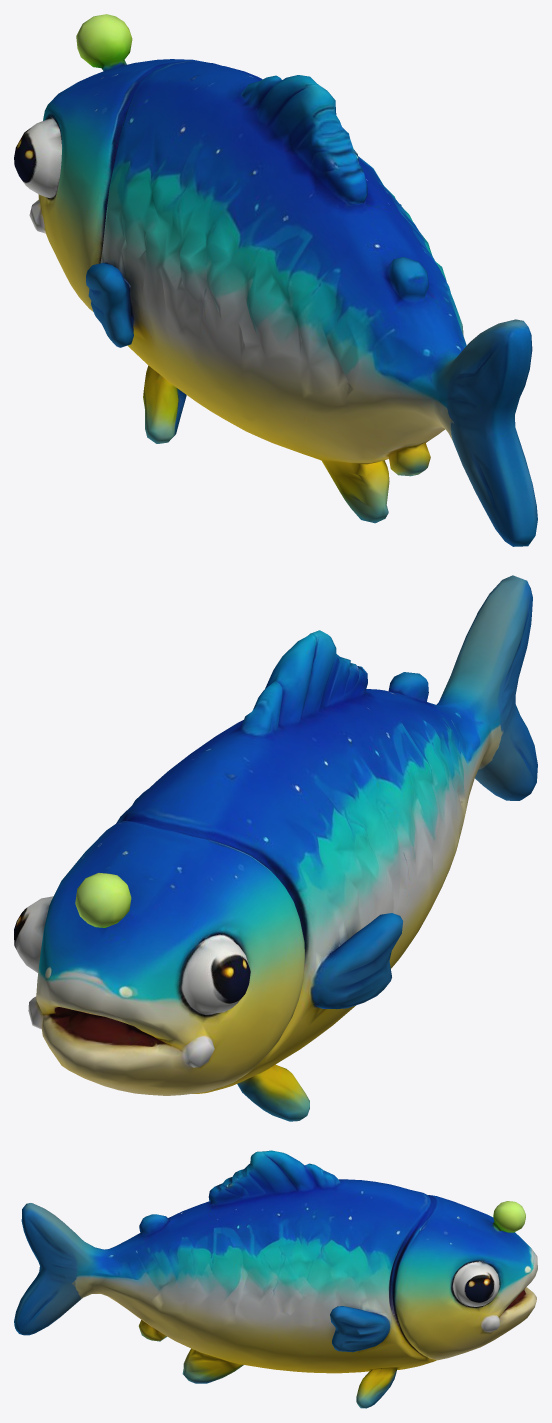
File: jack.glb
3 views of the same model, one above another, from view 1: azimuth 30°, elevation 25°; view 2: azimuth 150°, elevation 25°; view 3: azimuth 270°, elevation 25° (orthographic). The views are drawn at different scales.
Visible parts, largest first — view 1: tripo_node_8b1a6b39-6e7a-4785-a209-f6043039f236; view 2: tripo_node_8b1a6b39-6e7a-4785-a209-f6043039f236; view 3: tripo_node_8b1a6b39-6e7a-4785-a209-f6043039f236.
Boxes of the visible parts, bbox=[...] form: tripo_node_8b1a6b39-6e7a-4785-a209-f6043039f236: bbox=[14, 14, 537, 546]; tripo_node_8b1a6b39-6e7a-4785-a209-f6043039f236: bbox=[14, 575, 537, 1121]; tripo_node_8b1a6b39-6e7a-4785-a209-f6043039f236: bbox=[14, 1150, 537, 1408].
Bounding box in the file's own units: 0.3902 × 0.4988 × 1.
1 material, 1 textured.
